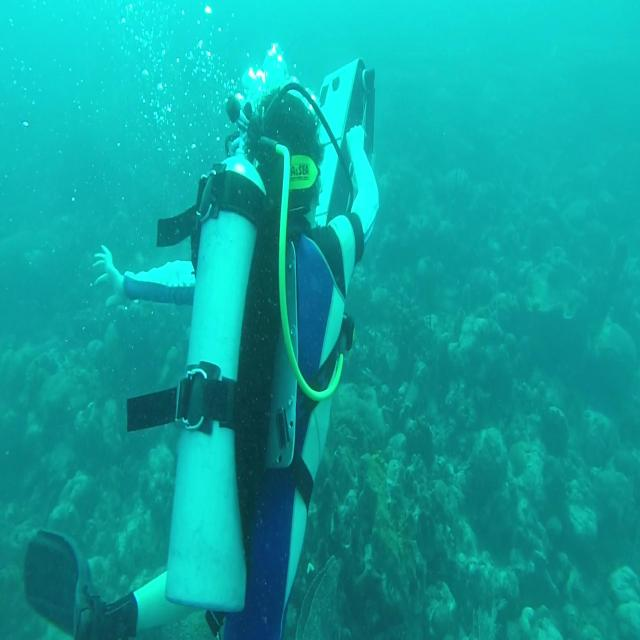human: (23, 56, 380, 638)
